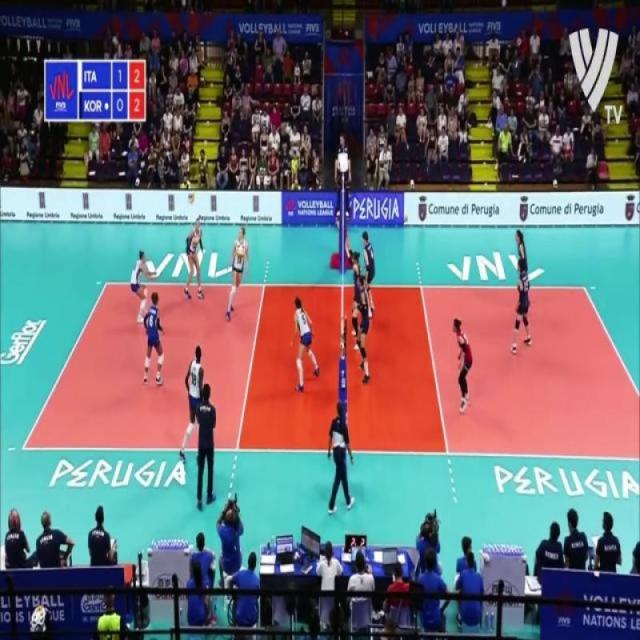volleyball: (188, 193, 195, 203)
